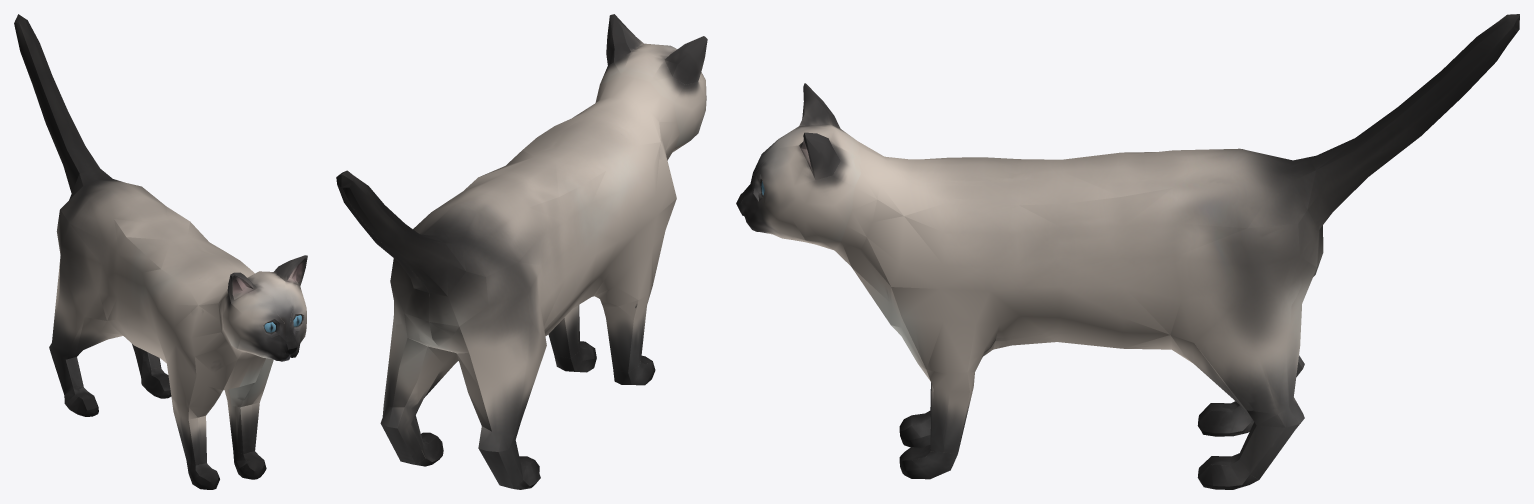
Rendered from siamese.obj.
The picture shows the model from 3 angles, left to right: view 1: azimuth 30°, elevation 25°; view 2: azimuth 150°, elevation 25°; view 3: azimuth 270°, elevation 25°; orthographic projection. The views are drawn at different scales.
Visible parts, largest first — view 1: Siamese; view 2: Siamese; view 3: Siamese.
Part boxes in pixels (x1=…): Siamese: x1=14, y1=14, x2=307, y2=489; Siamese: x1=336, y1=14, x2=707, y2=489; Siamese: x1=736, y1=14, x2=1519, y2=489.
Bounding box in the file's own units: 0.7557 × 2.1 × 3.37.
1 material, 1 textured.
